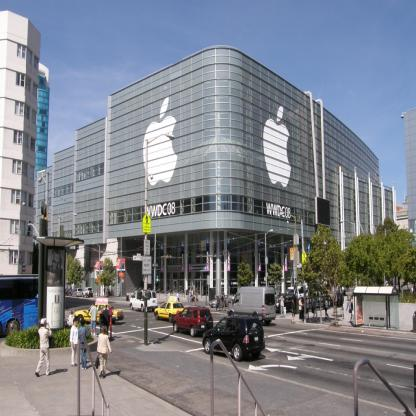Car: (204, 316, 266, 363), (74, 299, 125, 325), (174, 307, 214, 339), (155, 298, 189, 324), (276, 295, 299, 315), (210, 294, 235, 309), (333, 292, 345, 307), (84, 287, 94, 299), (73, 289, 83, 297), (66, 289, 73, 297)
